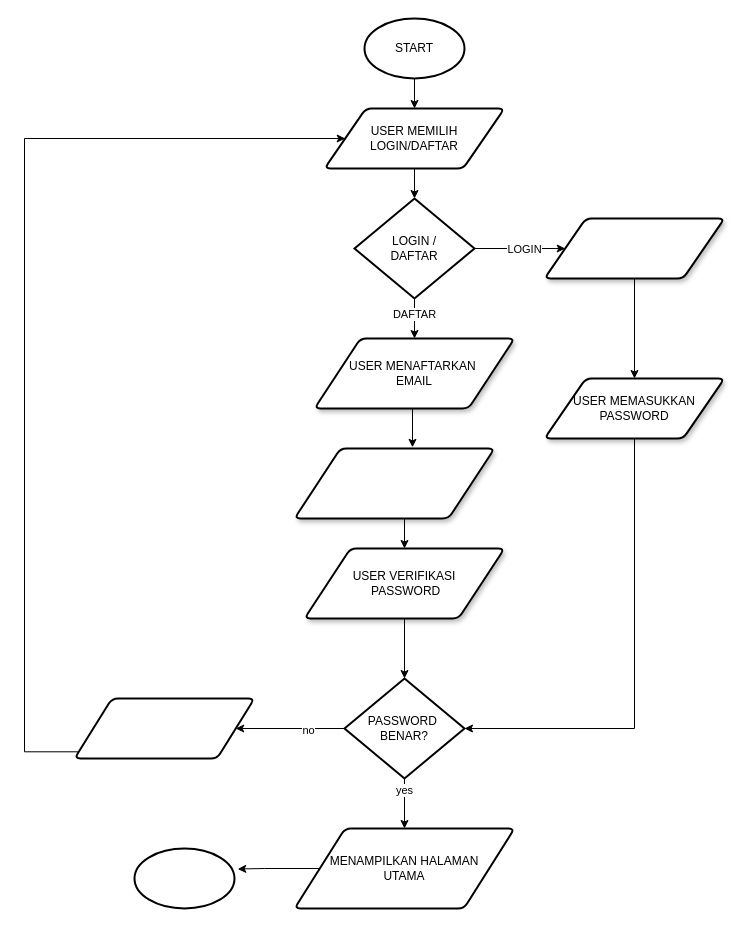
Some shapes in this 749 by 926 pixel diagram are drawn without their labels. The shapes that lost their labels are listed below. From the top down, each one's centre as x and y in pixels, then its label:
the point at 635,249: USER MEMASUKKAN EMAIL
the point at 395,484: USER MENDAFTARKAN PASSWORD
the point at 164,728: Pesan "Password salah"
the point at 184,878: END
